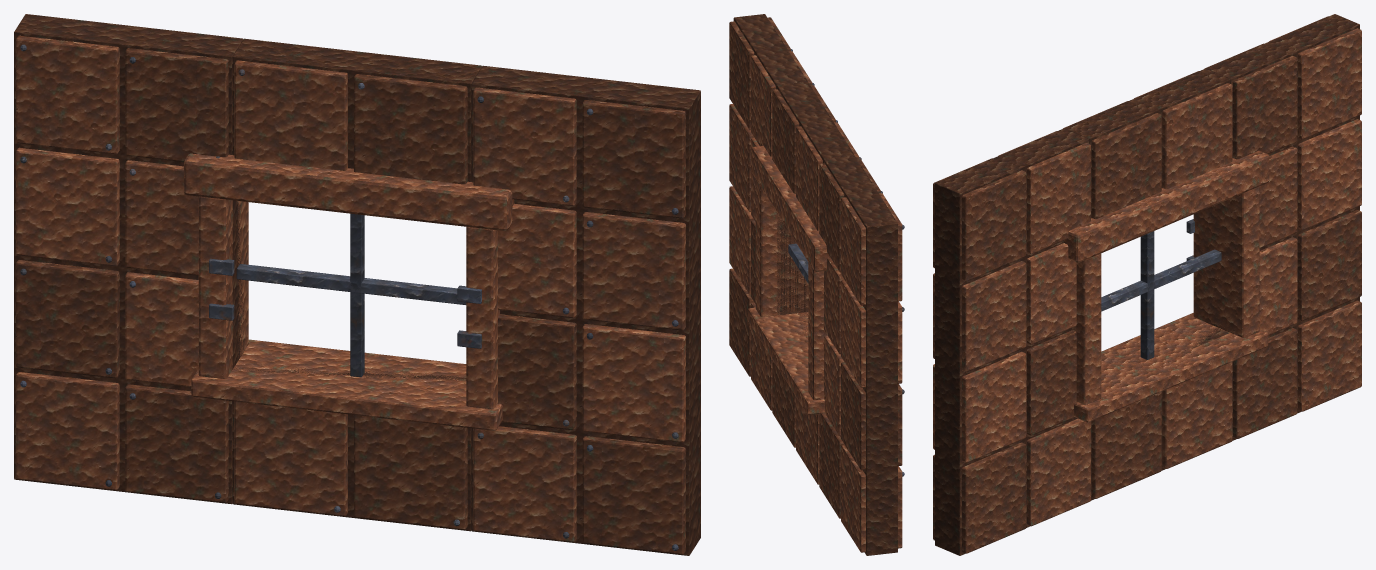
The model's file is window_diagonal__copper_ingot.glb.
The picture shows the model from 3 angles, left to right: view 1: azimuth 30°, elevation 25°; view 2: azimuth 150°, elevation 25°; view 3: azimuth 270°, elevation 25°; orthographic projection. The views are drawn at different scales.
Visible parts, largest first — view 1: model; view 2: model; view 3: model.
Boxes of the visible parts, bbox=[...] form: model: bbox=[14, 14, 700, 555]; model: bbox=[729, 14, 904, 555]; model: bbox=[933, 14, 1361, 555].
Bounding box in the file's own units: 2.14 × 2 × 2.14.
7 materials, 7 textured.
